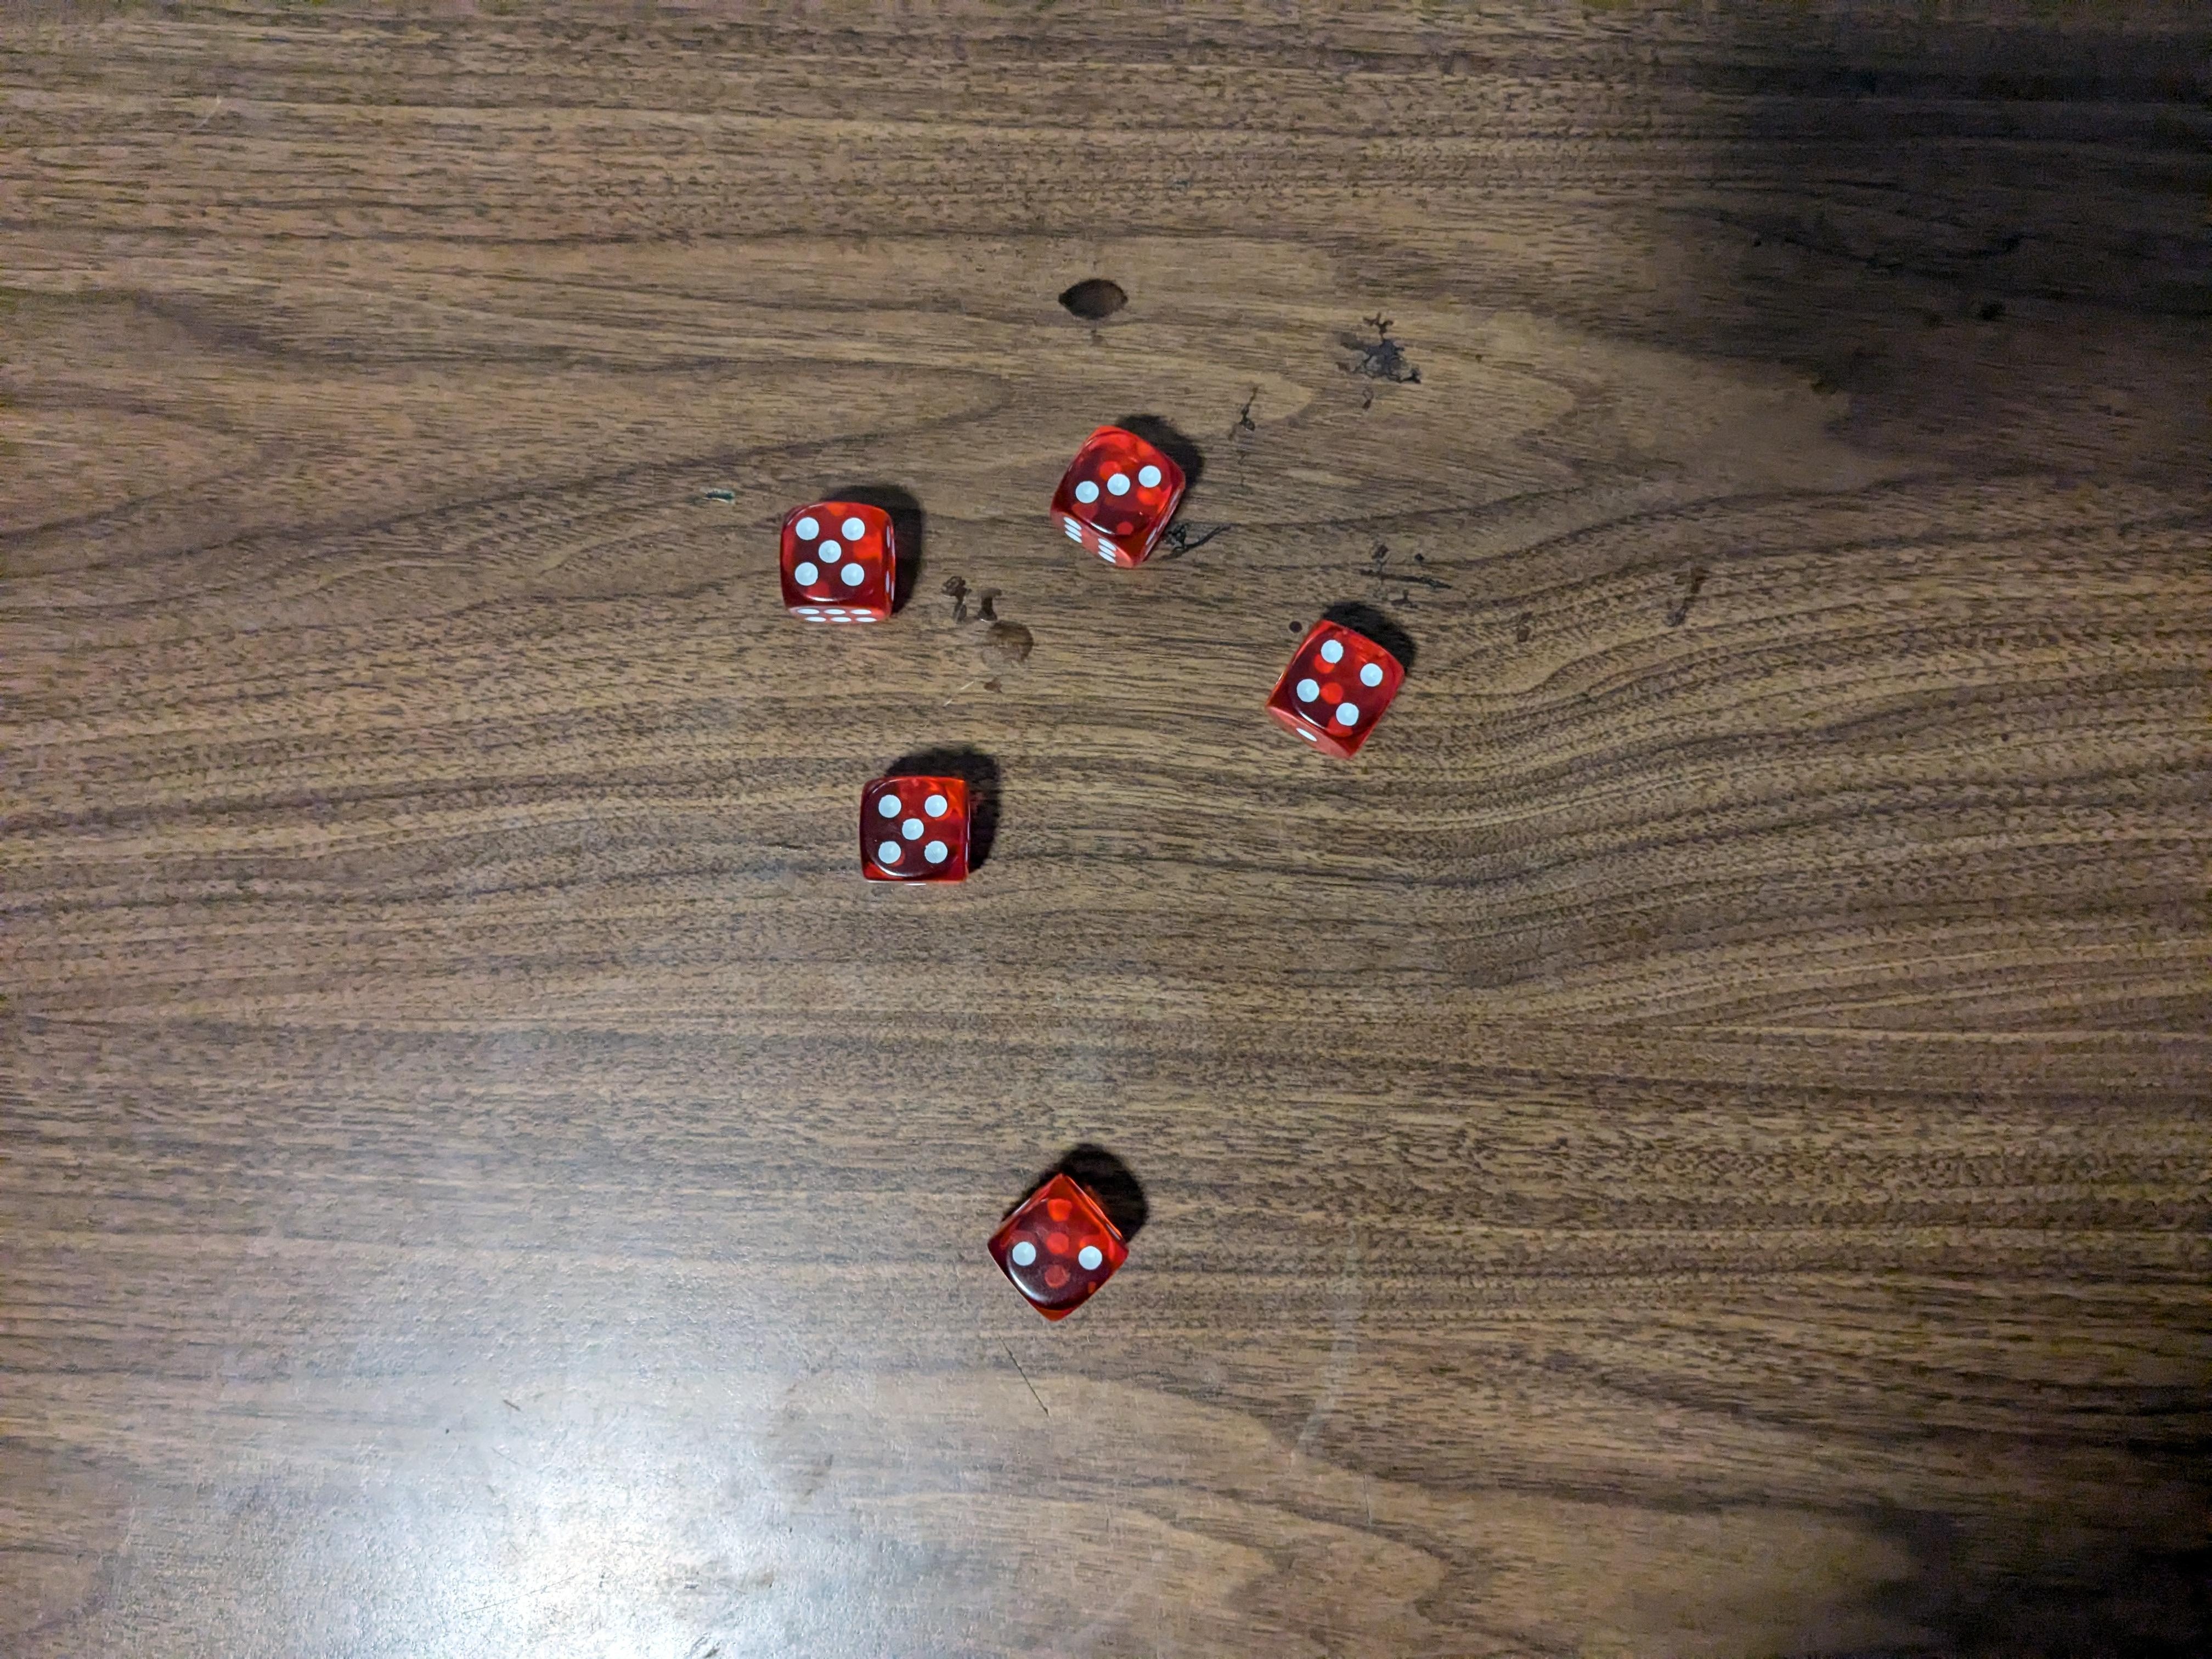five: (775, 498, 907, 633), (857, 774, 975, 889)
four: (1270, 617, 1406, 765)
three: (1052, 422, 1197, 579)
two: (988, 1175, 1134, 1328)
